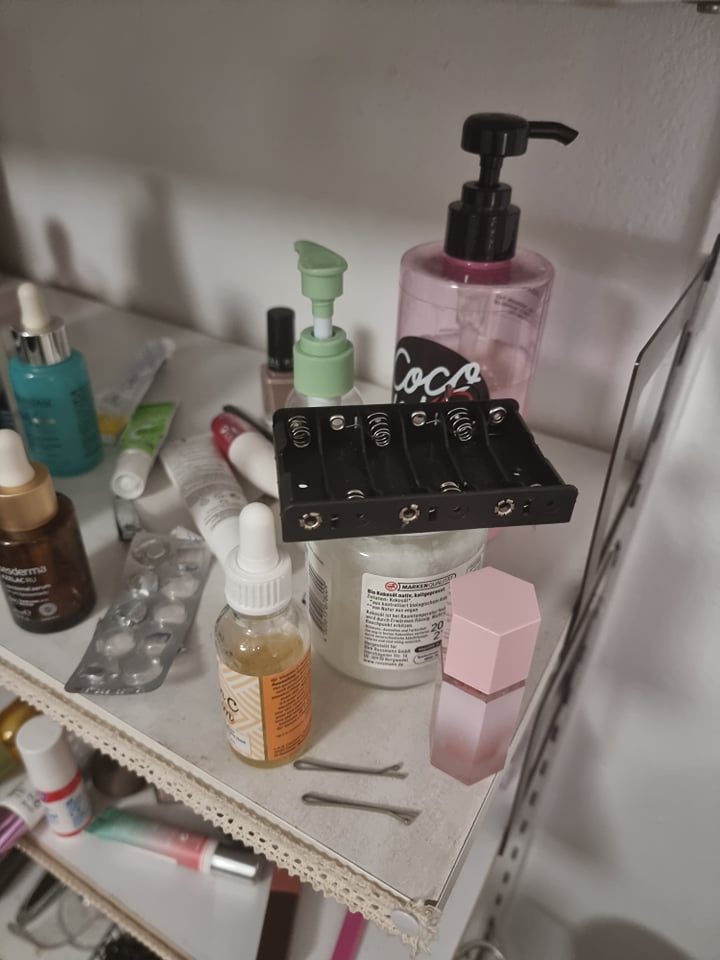BATTERY BOX: (269, 395, 579, 544)
